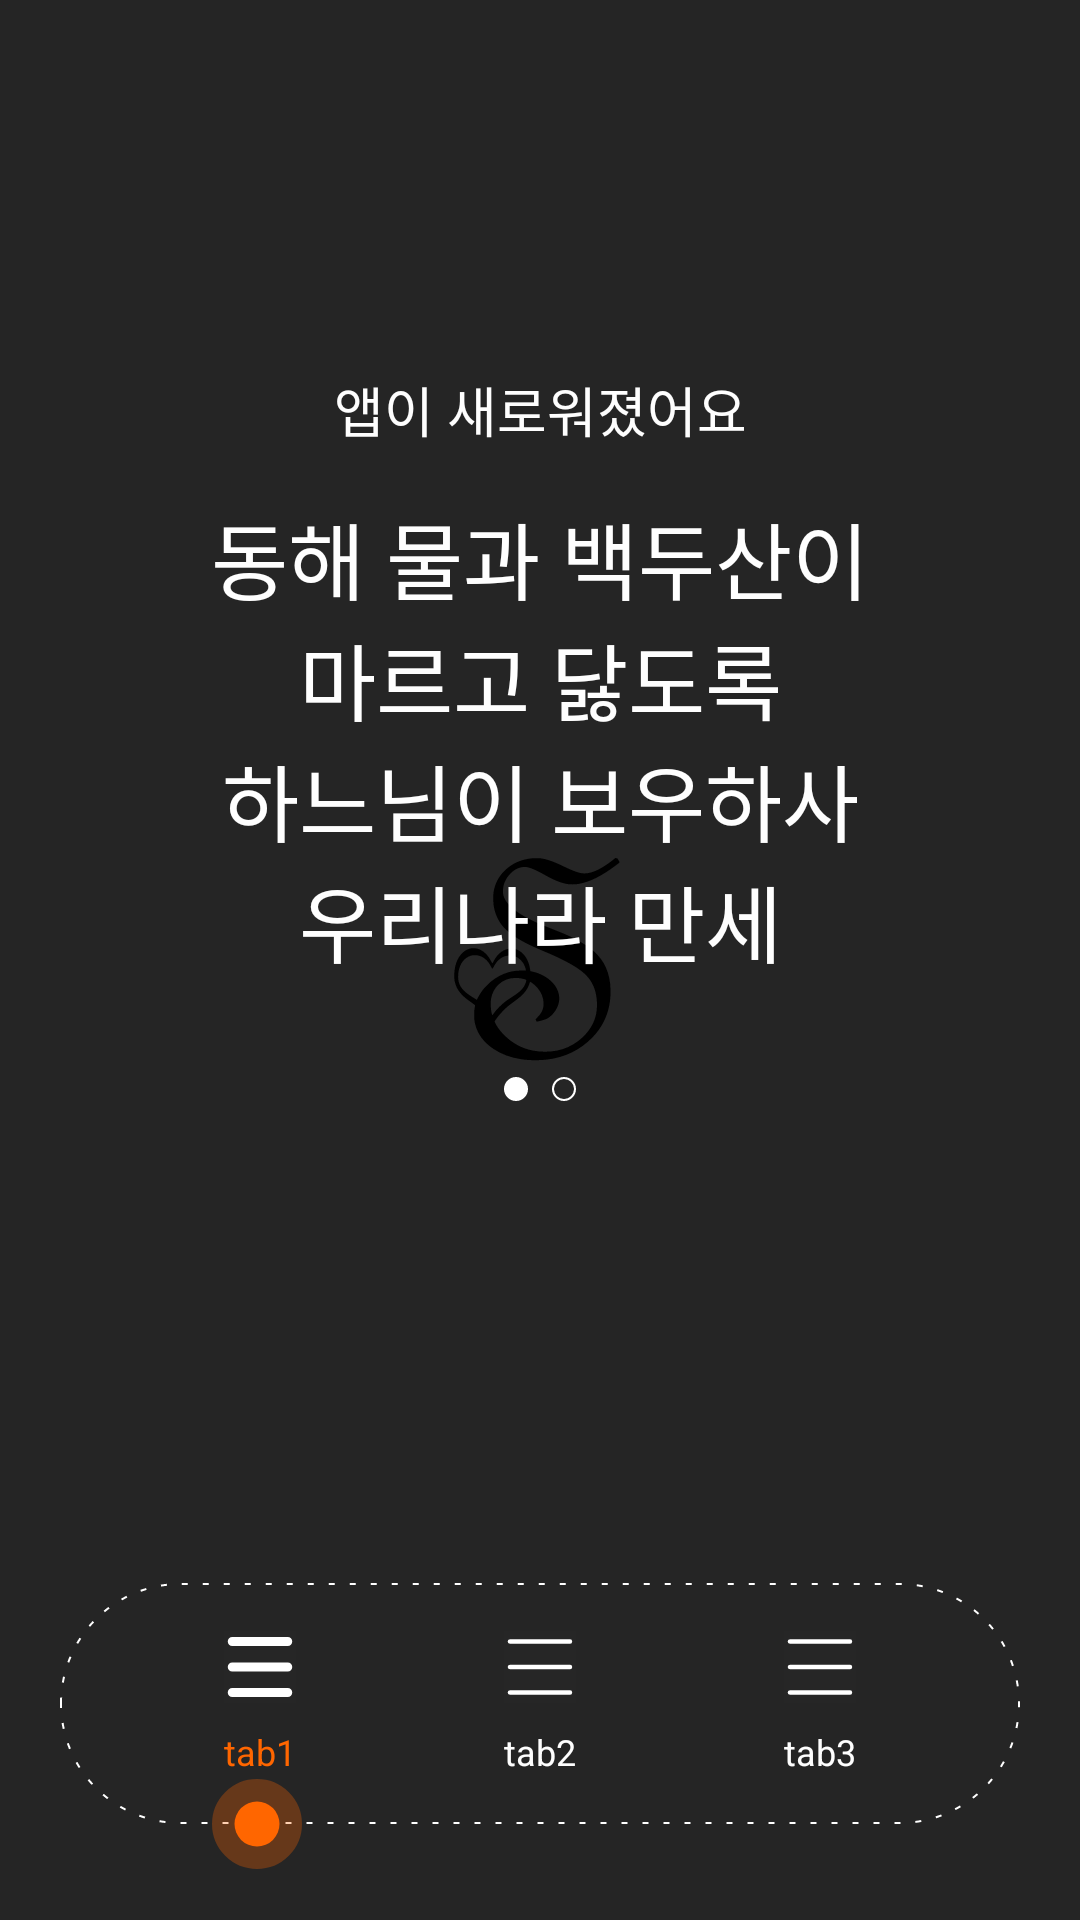

Locate icon controls on the screen. Image size 1080*1920, boxes as [x1=x1, y1=y1, x2=x2, y2=y2].
menu: [x1=227, y1=1637, x2=293, y2=1697]
stroke menu: [x1=507, y1=1639, x2=573, y2=1695], [x1=787, y1=1639, x2=853, y2=1695]
